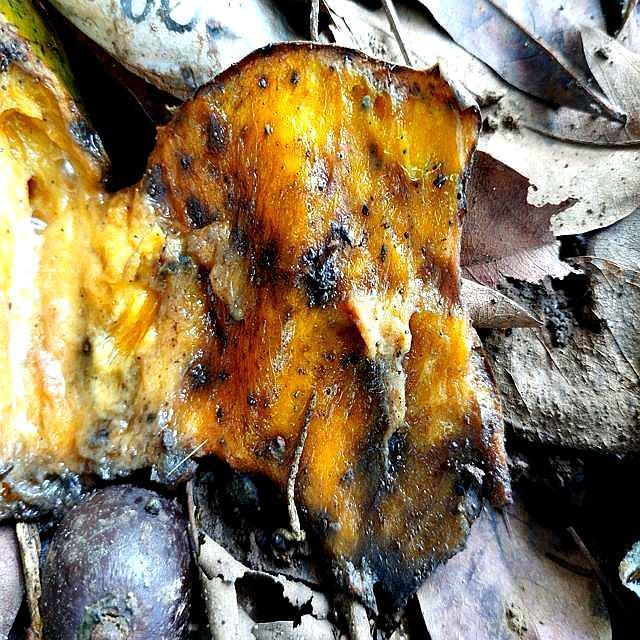Biodegradable: (1, 1, 499, 497)
